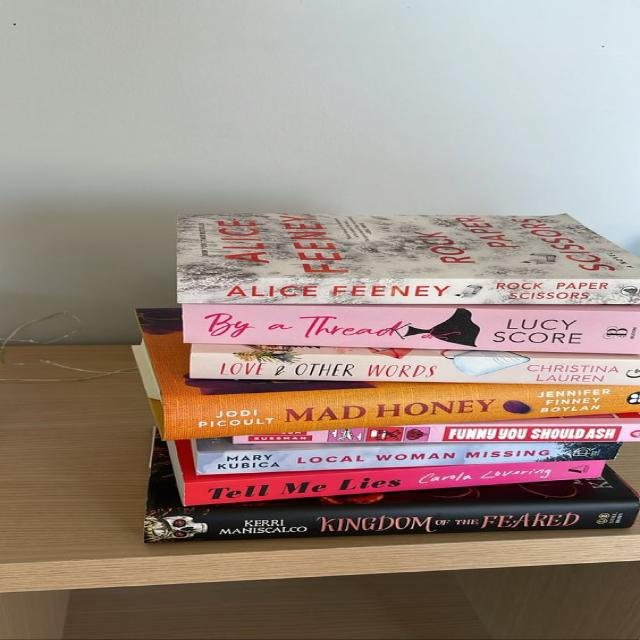book: (166, 383, 639, 439), (183, 304, 639, 353), (145, 500, 638, 543), (187, 459, 601, 506), (190, 344, 639, 386), (199, 443, 621, 474), (178, 279, 638, 304), (235, 422, 639, 444)
